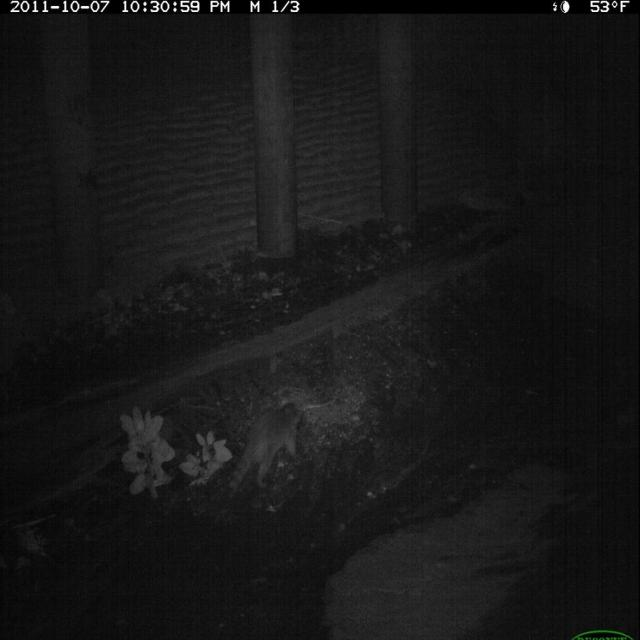raccoon: (220, 394, 312, 509)
